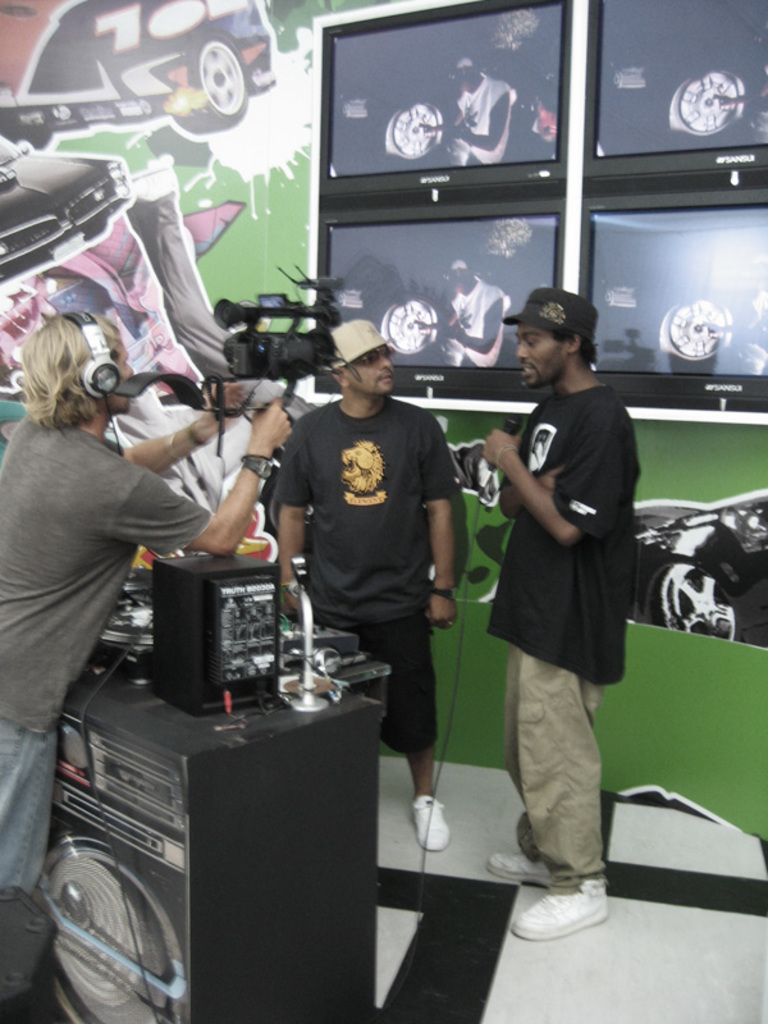Car: (17, 0, 273, 136), (0, 128, 135, 282)
